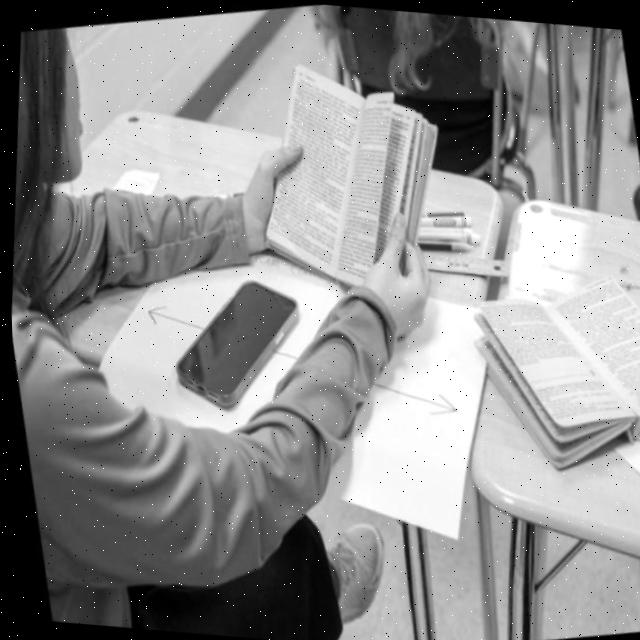phone: (151, 262, 316, 423)
